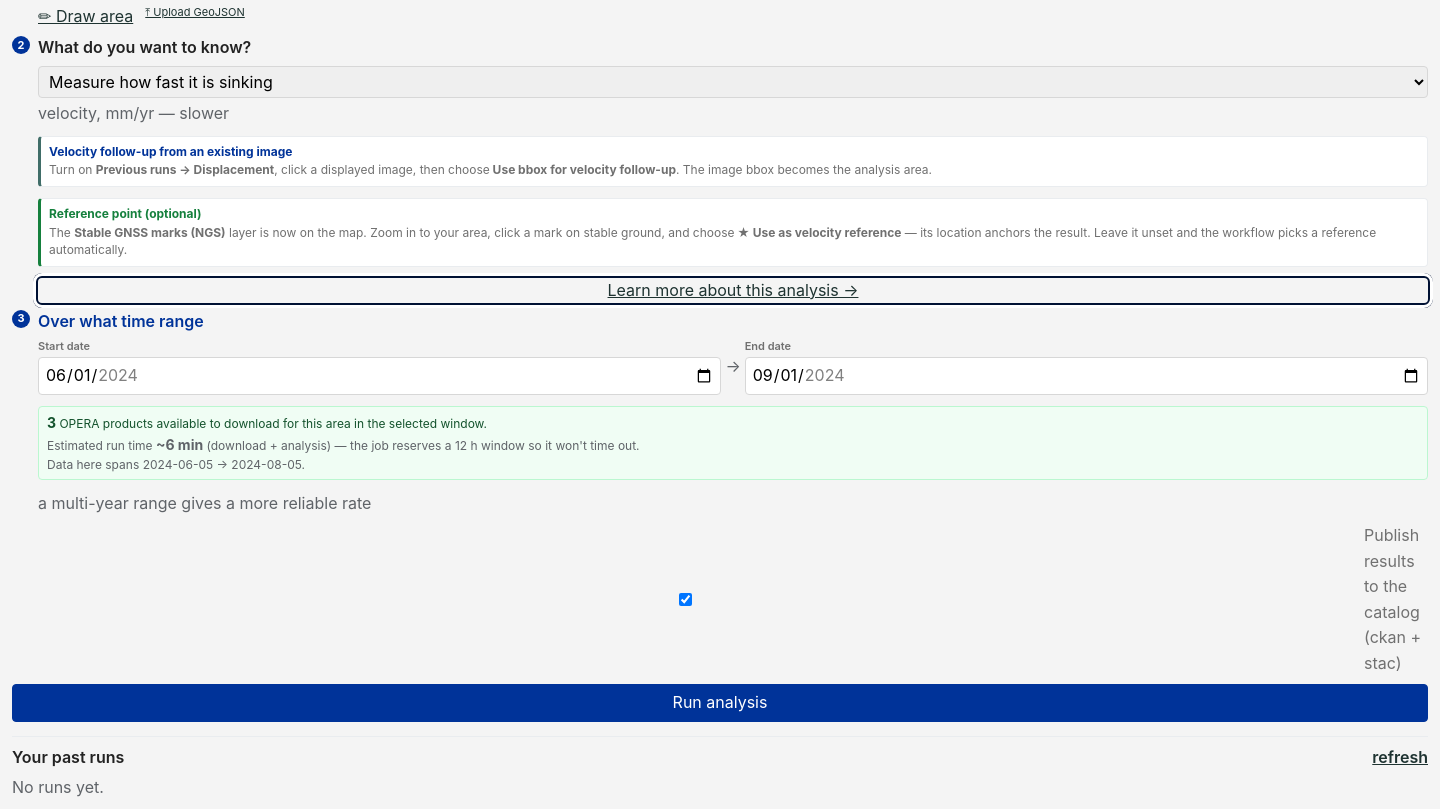
Test: dynamo mode › shows DATES_CONFLICT with its message
(page scrolled)
Step 1. Click the button "Run analysis" → point(720, 703), box left=12, top=684, right=1428, bottom=722
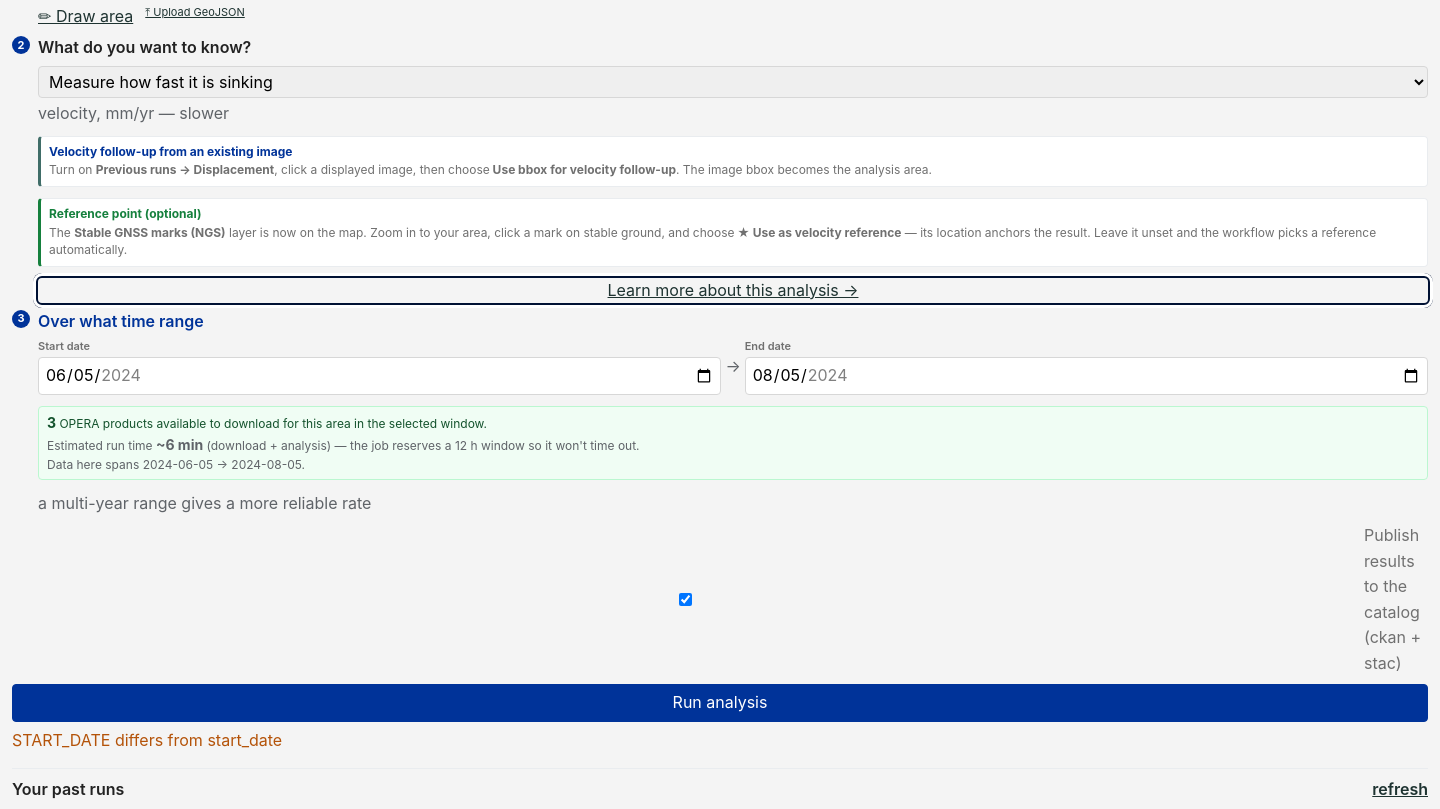
Expected: the message reads "START_DATE differs from start_date", left=12, top=730, right=282, bottom=750
